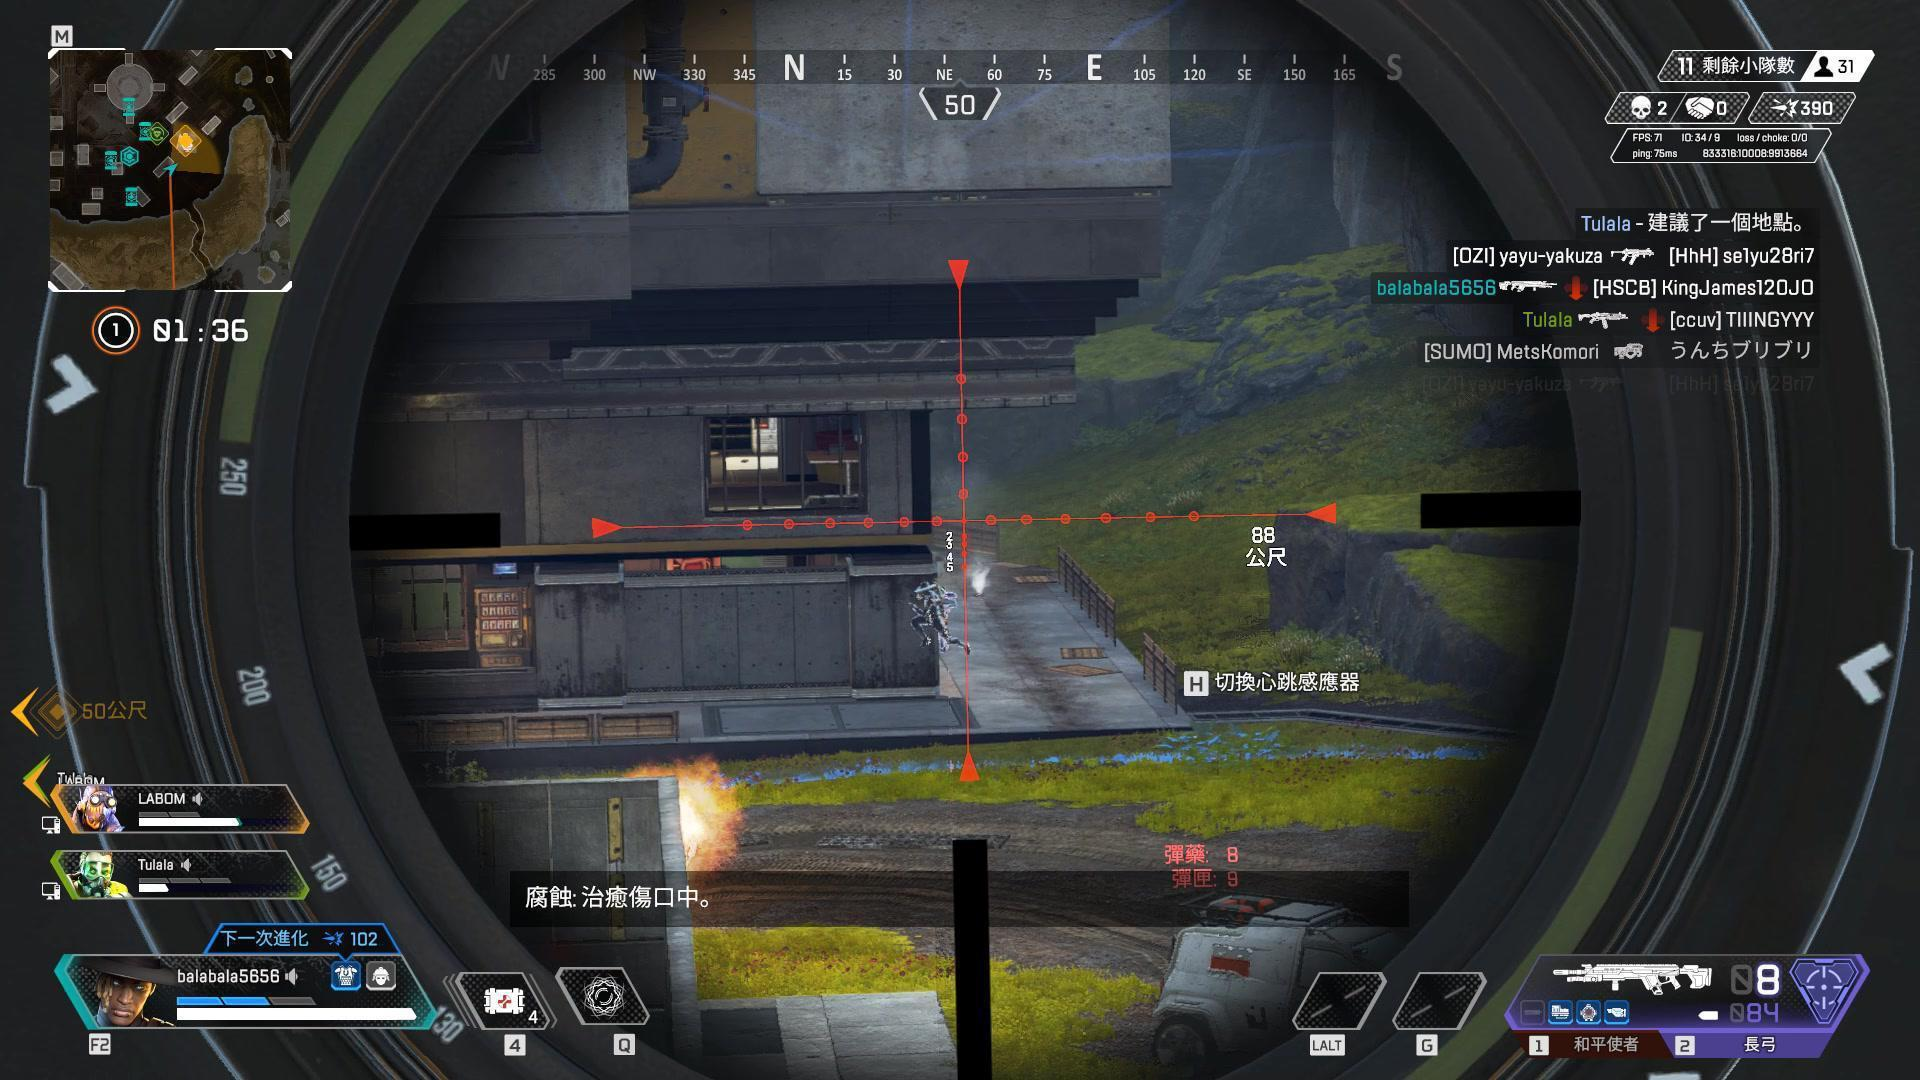avatar: (909, 578, 959, 652)
